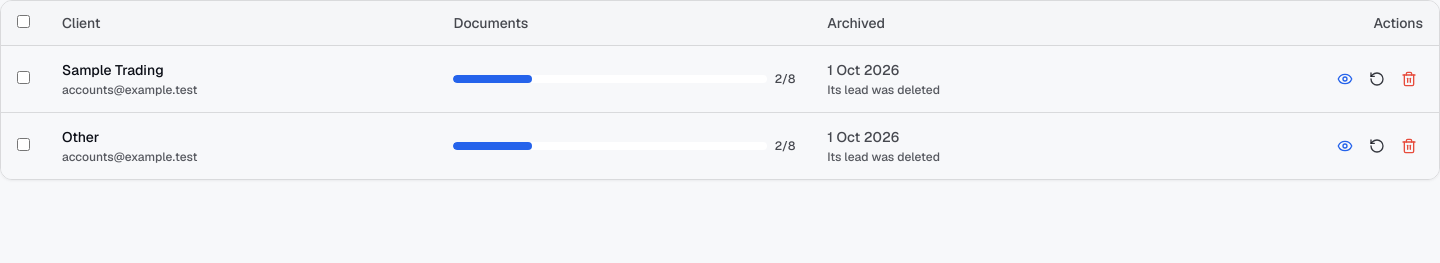
Test case: ClientTable — the Archive › offers restore and permanent delete for a selection
Click the checkbox named "Select all clients" at (24, 22), box [17,15,30,28]
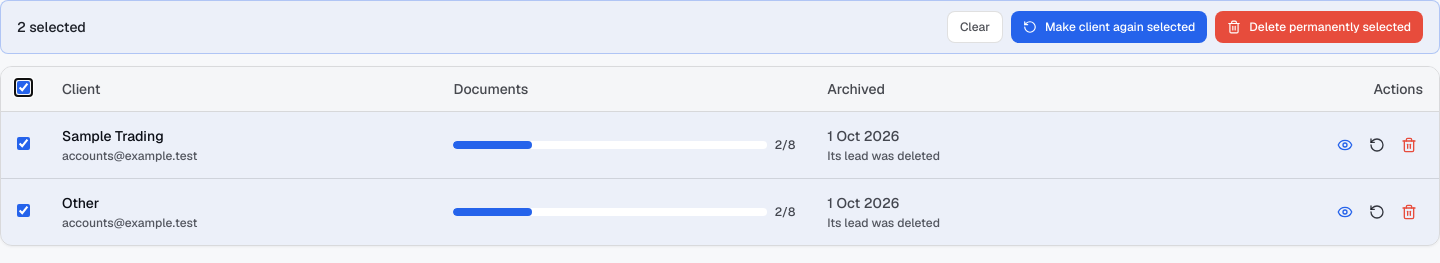
Check: the button "Make client again selected" is shown, box [1011,11,1207,43]
Check: the button "Delete permanently selected" is shown, box [1215,11,1423,43]
